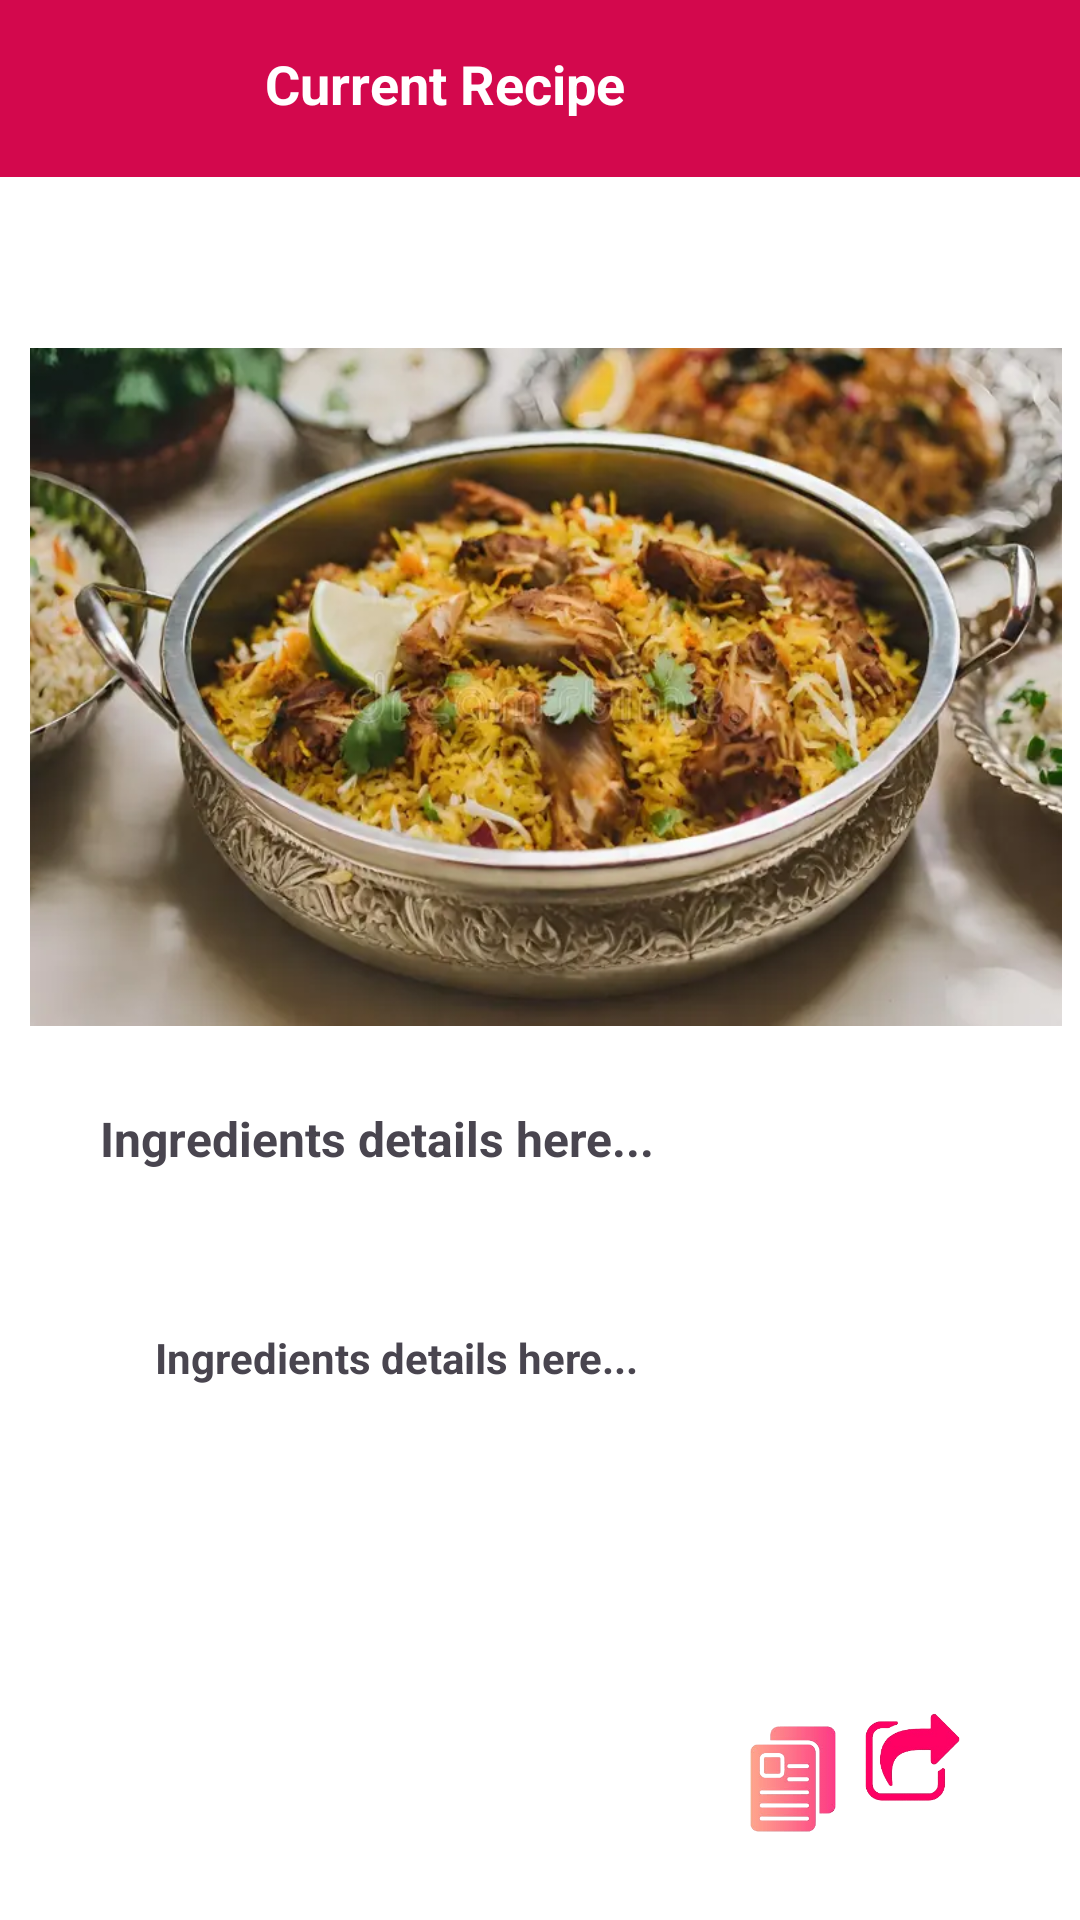

Icon bounding boxes for this 1080 × 1920 phone screenshot, format [x1, y1, x2, y2]:
share: [865, 1714, 960, 1801]
